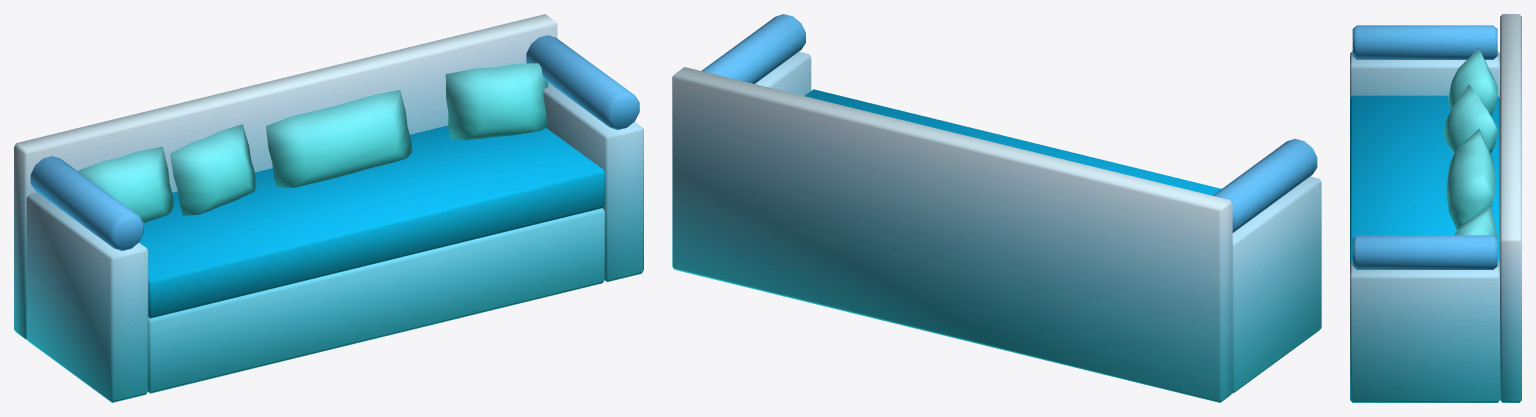
The model's file is SM_Sofa_41.fbx.
3 renders of one model, left to right at view 1: azimuth 30°, elevation 25°; view 2: azimuth 150°, elevation 25°; view 3: azimuth 270°, elevation 25°, orthographic. The views are drawn at different scales.
Visible parts, largest first — view 1: SM_Sofa_41; view 2: SM_Sofa_41; view 3: SM_Sofa_41.
Boxes of the visible parts, bbox=[...] form: SM_Sofa_41: bbox=[14, 14, 643, 402]; SM_Sofa_41: bbox=[672, 14, 1321, 402]; SM_Sofa_41: bbox=[1350, 14, 1521, 402].
Bounding box in the file's own units: 276 × 93.8 × 88.72.
Materials: 1 (1 with a texture image).
